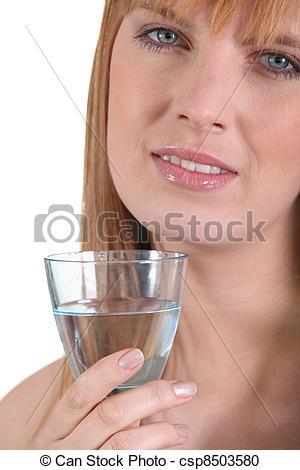glass of water: (45, 249, 179, 383)
